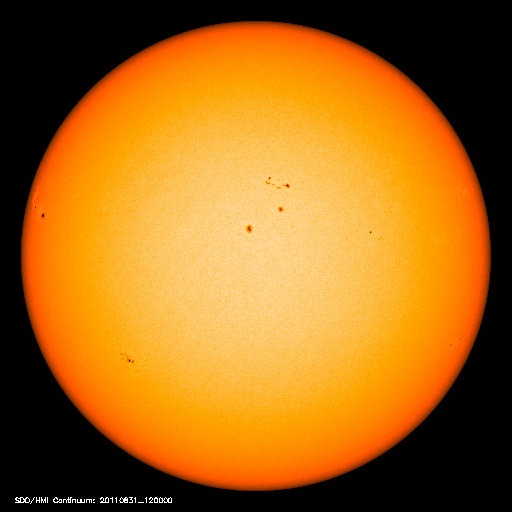sunspot: (237, 170, 301, 241), (106, 344, 148, 375), (26, 195, 53, 228)
